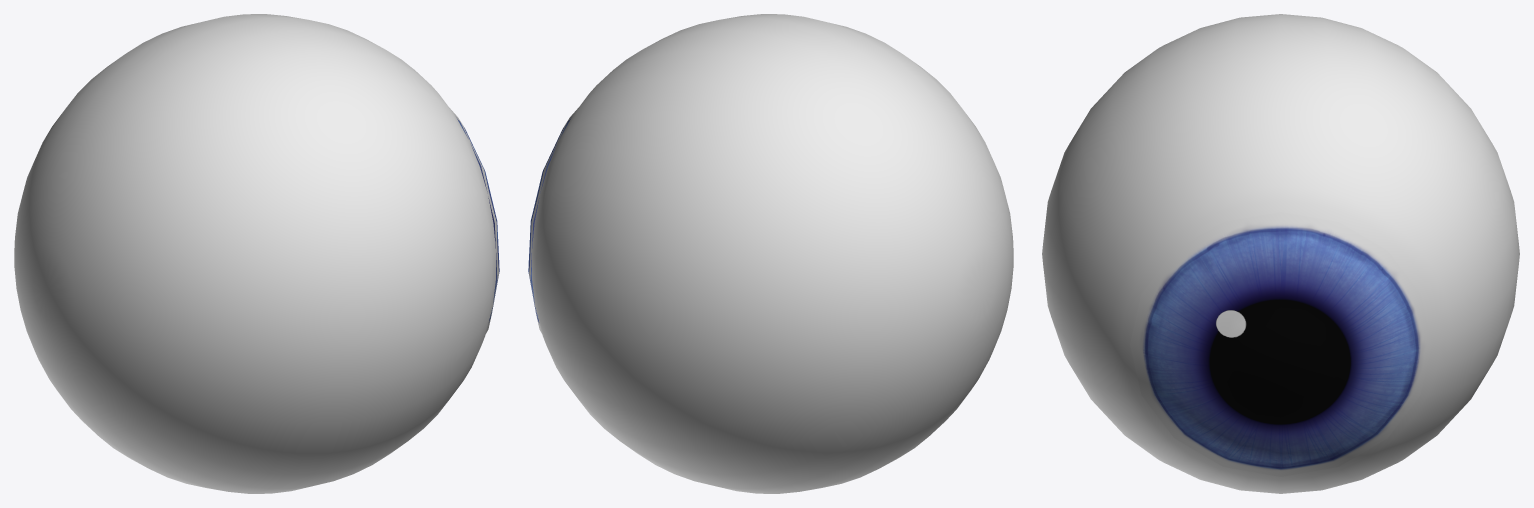
File: stylized_eye copy.glb
3 views of the same model, side by side, from view 1: azimuth 30°, elevation 25°; view 2: azimuth 150°, elevation 25°; view 3: azimuth 270°, elevation 25° (orthographic).
Visible parts, largest first — view 1: polySurface2, polySurface1; view 2: polySurface2, polySurface1; view 3: polySurface2, polySurface1.
Boxes of the visible parts, bbox=[...] form: polySurface2: bbox=[14, 14, 495, 493]; polySurface1: bbox=[450, 108, 499, 333]; polySurface2: bbox=[532, 14, 1013, 493]; polySurface1: bbox=[528, 108, 577, 333]; polySurface2: bbox=[1042, 14, 1519, 493]; polySurface1: bbox=[1130, 212, 1431, 476].
Size of the model in its own units: 1.94 by 1.95 by 1.95.
Materials: 2 (2 with a texture image).
